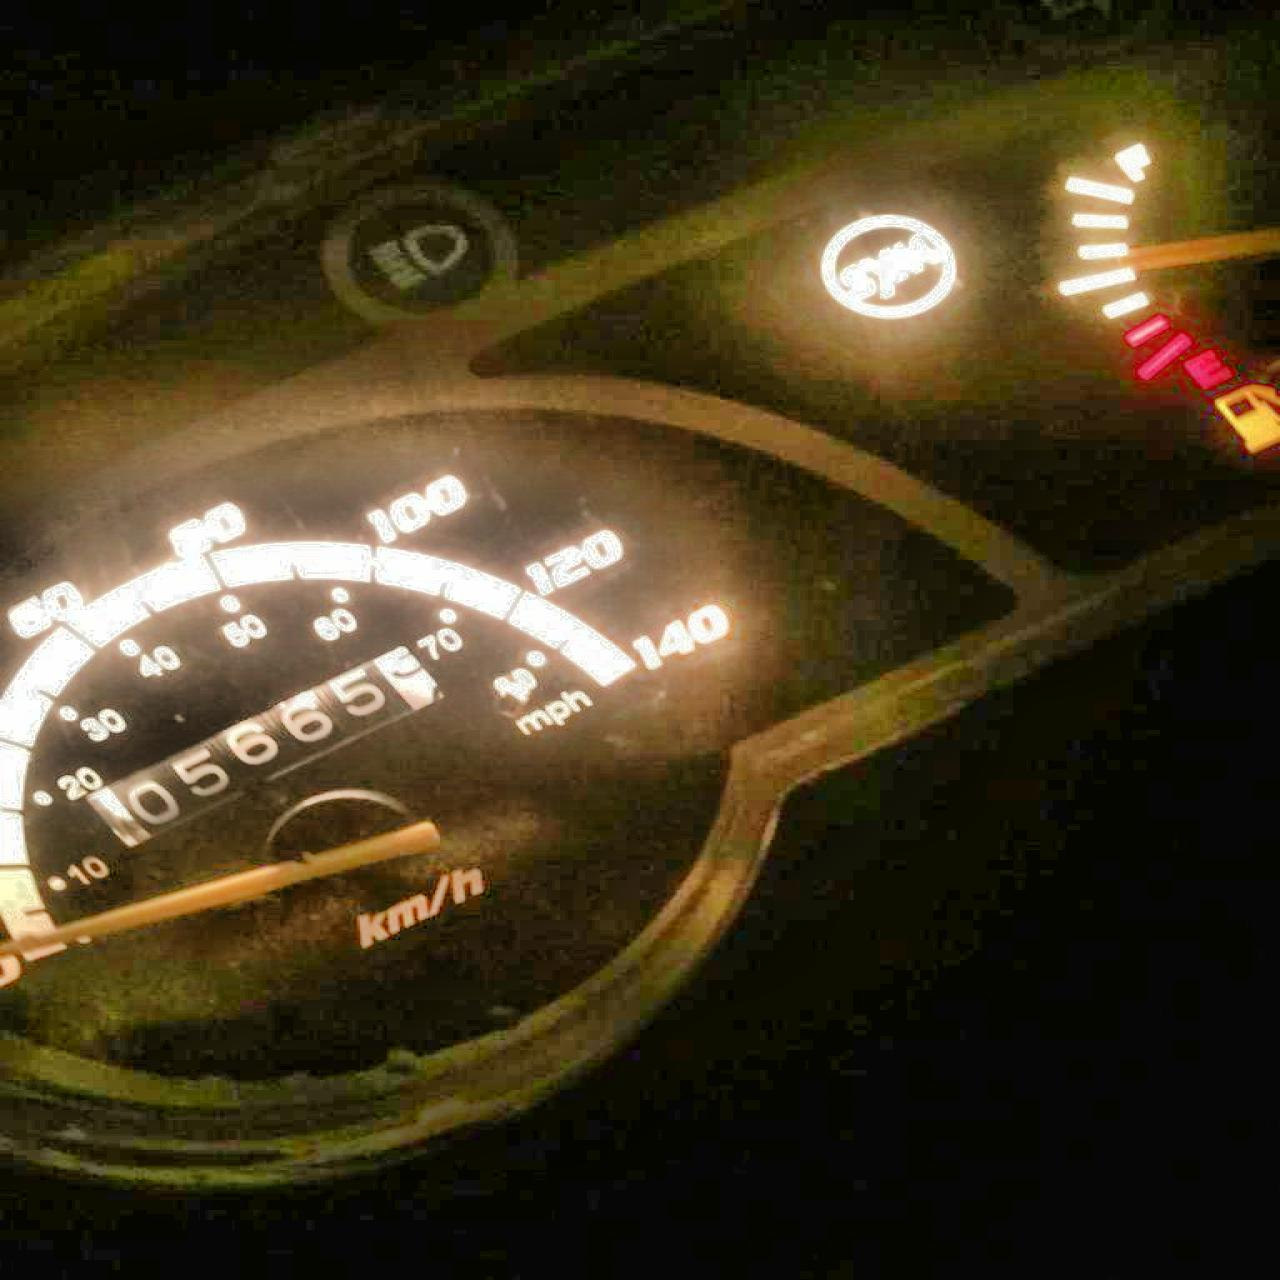0: (120, 783, 181, 825), (96, 701, 127, 729), (75, 765, 108, 790), (151, 647, 189, 667)
3: (375, 651, 431, 678), (80, 716, 105, 738)
4: (135, 652, 163, 680)
5: (315, 670, 388, 716), (165, 747, 229, 797)
6: (217, 717, 285, 764), (278, 700, 335, 737)
odometer: (79, 642, 447, 850)
